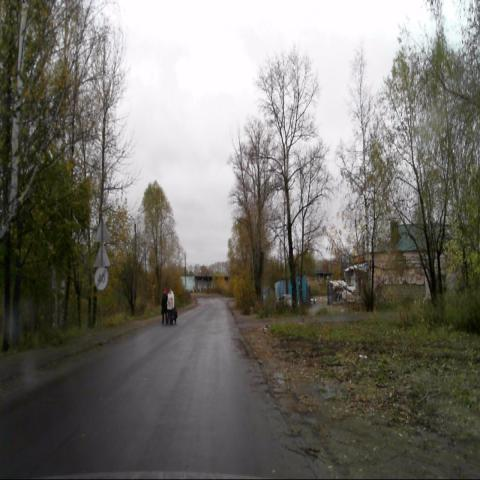3_25: (94, 266, 108, 291)
